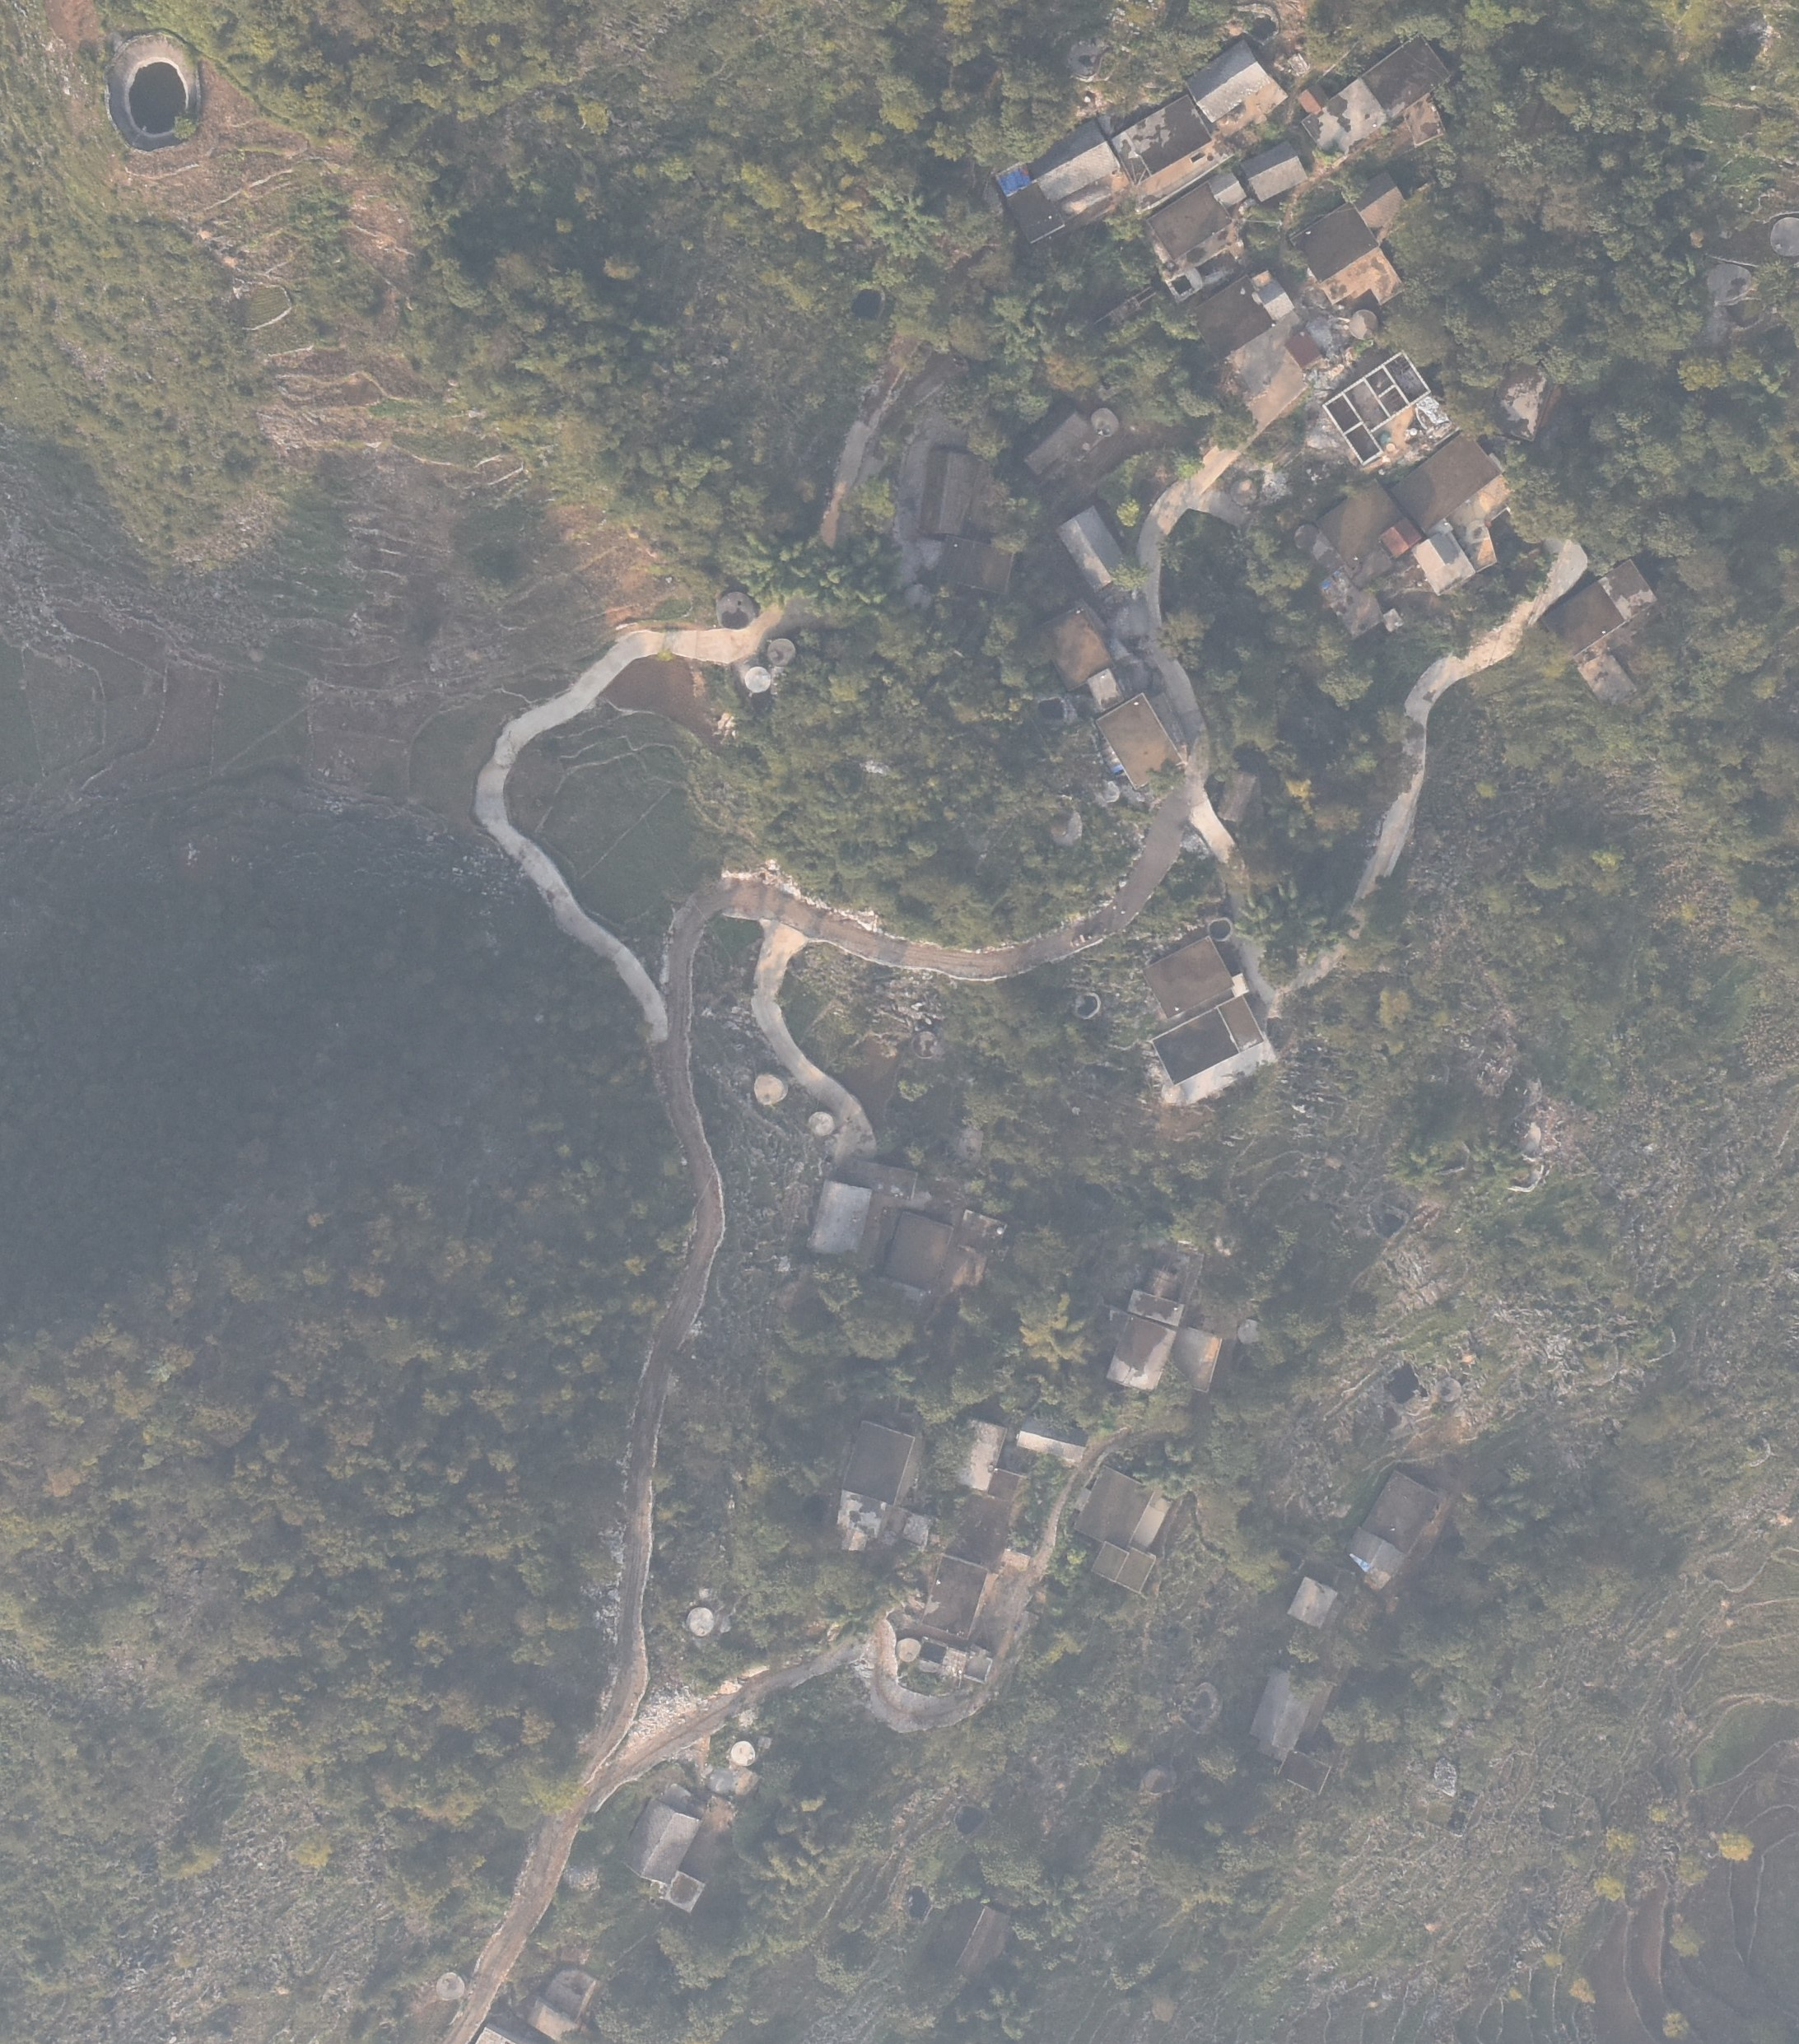building: (1323, 349, 1433, 469), (1393, 433, 1510, 532), (1018, 113, 1137, 206), (1112, 92, 1223, 191), (1128, 184, 1244, 271), (1551, 559, 1661, 650), (1366, 26, 1463, 126), (1289, 196, 1389, 290), (1135, 999, 1242, 1084), (1302, 79, 1409, 162), (1359, 1465, 1448, 1560), (1316, 472, 1402, 569), (1136, 931, 1233, 1016), (1189, 274, 1285, 358), (1098, 693, 1183, 785), (1070, 1462, 1154, 1553), (1187, 41, 1279, 123), (621, 1795, 702, 1884), (877, 1209, 957, 1298), (1034, 607, 1116, 691), (1054, 503, 1132, 589), (914, 445, 981, 542), (1247, 1669, 1318, 1761), (944, 1484, 1014, 1578), (933, 529, 1028, 598), (919, 1550, 990, 1639), (1015, 401, 1088, 484), (1108, 1314, 1180, 1394), (805, 1175, 869, 1260), (951, 1411, 1005, 1504), (1240, 145, 1312, 209), (1213, 990, 1274, 1058), (841, 1149, 918, 1202), (1017, 1413, 1091, 1464), (998, 178, 1057, 240), (1352, 171, 1411, 229), (1273, 1748, 1339, 1799), (1345, 1527, 1405, 1582), (1578, 651, 1638, 705), (544, 1967, 598, 2023), (1212, 765, 1259, 829), (1288, 1572, 1334, 1626), (1126, 1284, 1184, 1324), (528, 1997, 580, 2041), (1116, 1545, 1156, 1601), (1413, 532, 1463, 575), (661, 1867, 710, 1910), (1253, 275, 1295, 324), (1091, 1539, 1128, 1586), (1280, 328, 1323, 368), (1088, 666, 1124, 708), (986, 1467, 1024, 1506), (1384, 514, 1415, 559), (1297, 87, 1332, 118), (433, 1972, 466, 2003), (1235, 1319, 1265, 1348), (1228, 968, 1254, 999), (1382, 608, 1401, 633)
cable-tower: (860, 757, 892, 778)
pool: (100, 29, 212, 155)
prefabricated-house: (995, 161, 1029, 205)
vehicle: (1069, 933, 1094, 948)
well: (842, 1418, 916, 1511), (834, 1489, 887, 1545), (1701, 262, 1756, 309), (712, 586, 755, 631), (1046, 806, 1084, 848), (1766, 216, 1799, 263), (1345, 308, 1382, 343), (752, 1072, 790, 1107), (1087, 404, 1119, 440), (900, 1513, 933, 1546), (911, 1027, 945, 1058), (767, 633, 798, 666), (684, 1607, 717, 1637), (1290, 520, 1319, 553), (1230, 476, 1261, 506), (805, 1110, 837, 1138), (730, 1739, 759, 1769), (744, 663, 772, 694), (893, 1634, 920, 1665), (1433, 1376, 1461, 1403), (839, 1528, 865, 1555), (1102, 779, 1125, 803)
